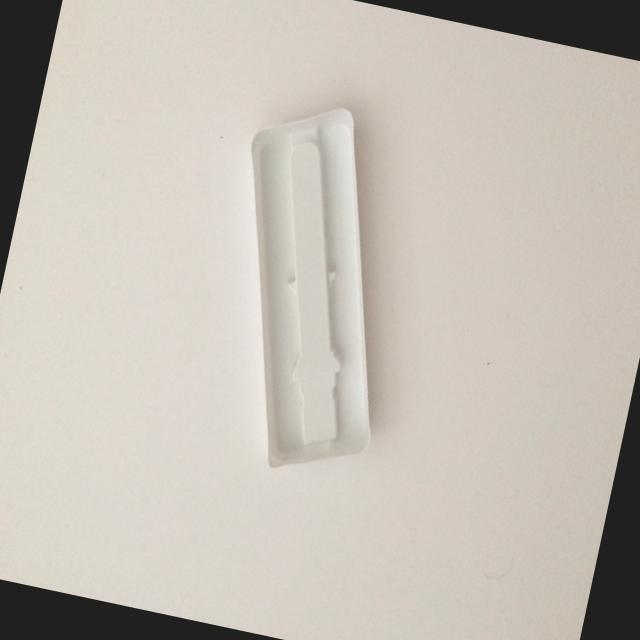Plastic: (154, 52, 470, 516)
